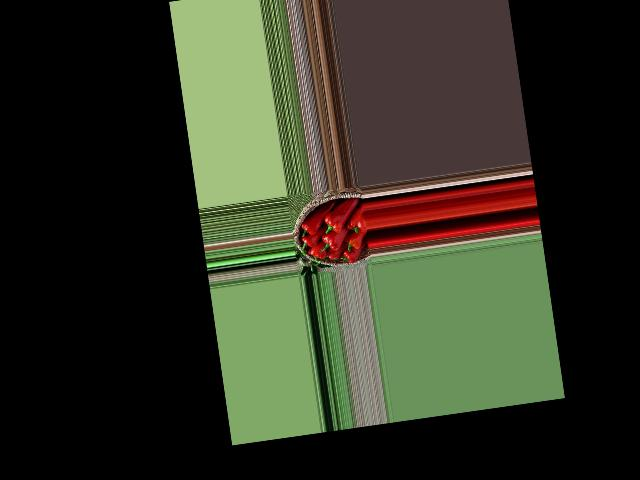bell_pepper: (297, 231, 320, 251)
